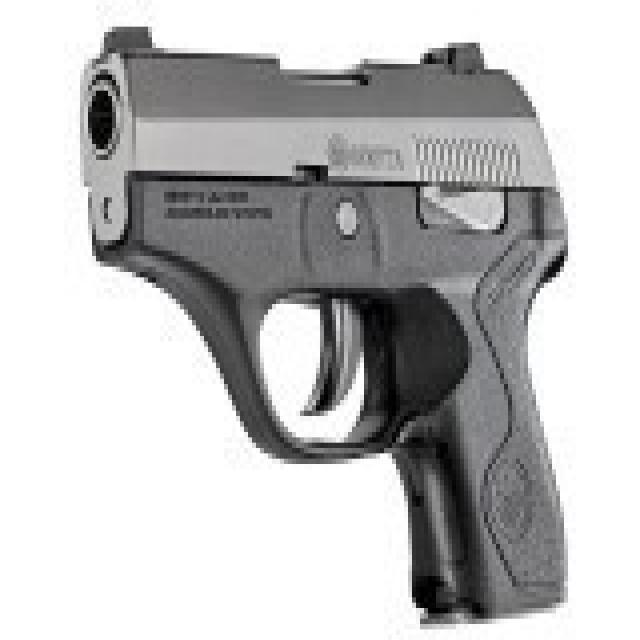Gun: (63, 12, 610, 614)
